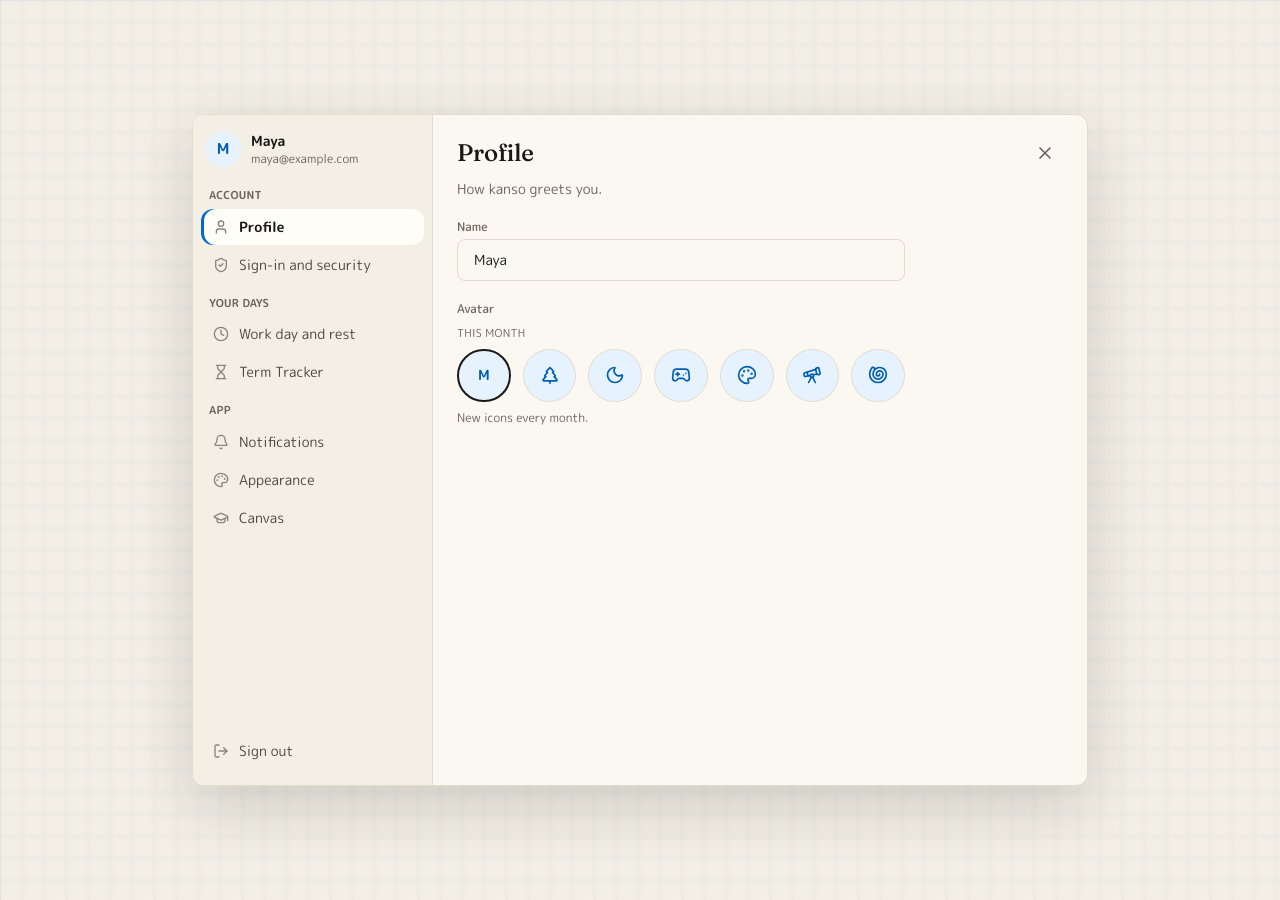
it: SettingsModal navigation › groups the pages in a side menu and switches between them
Click the button "Work day and rest" at (312,334), box x1=201 y1=316 x2=424 y2=352
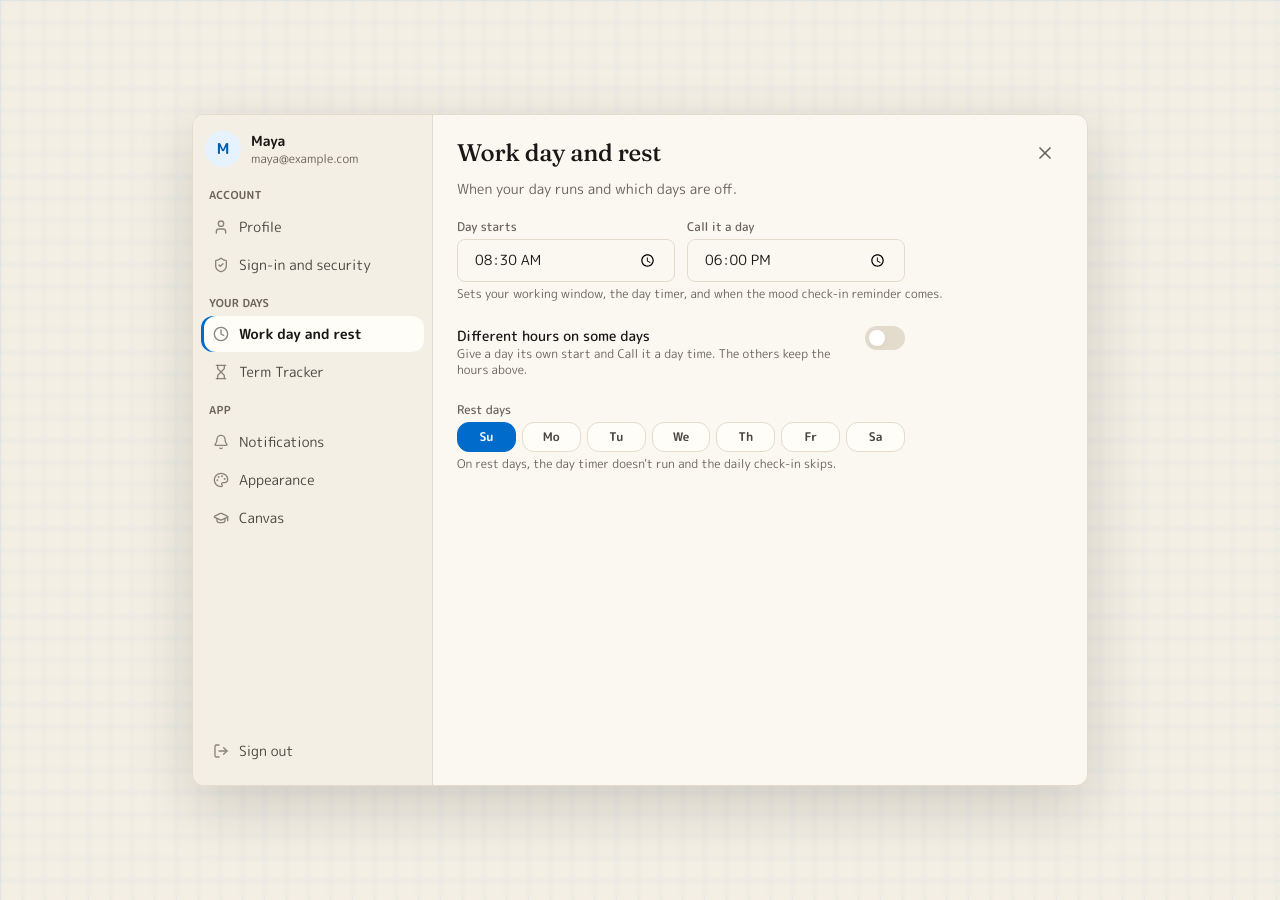
Check: the text "Work day and rest" is shown, box x1=239 y1=324 x2=362 y2=343
Check: the time field with id "settings-day-start" holds "08:30", box x1=457 y1=239 x2=675 y2=282
